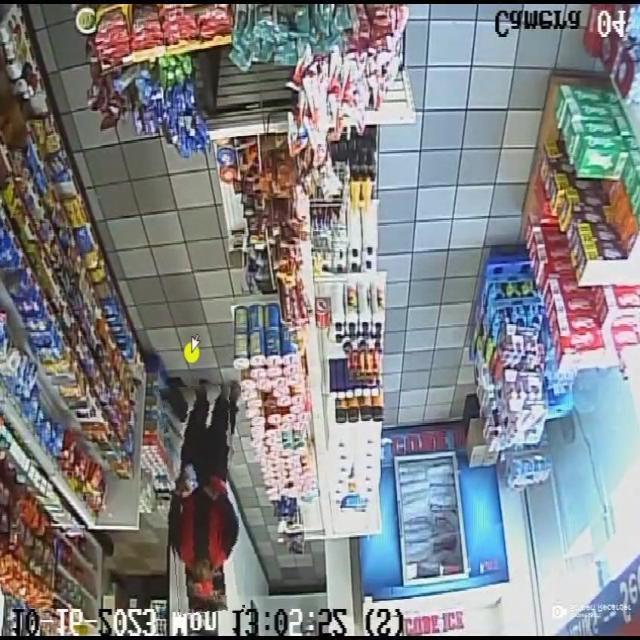Normal: (164, 385, 241, 614)
